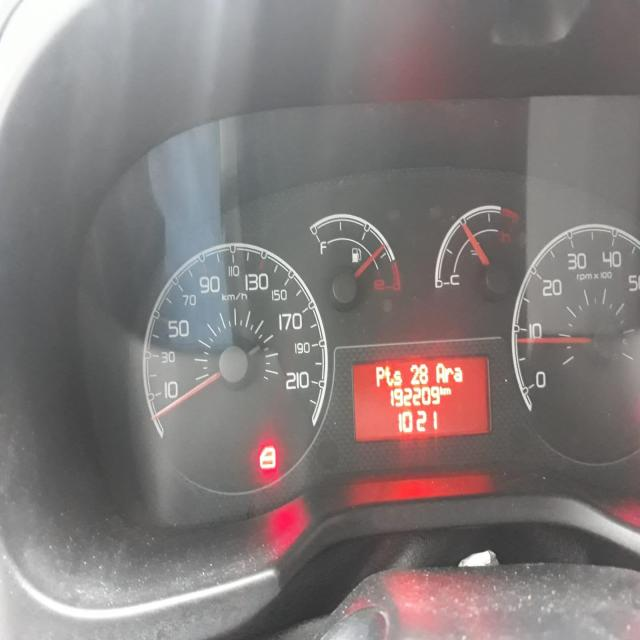odometer: (352, 354, 491, 440)
